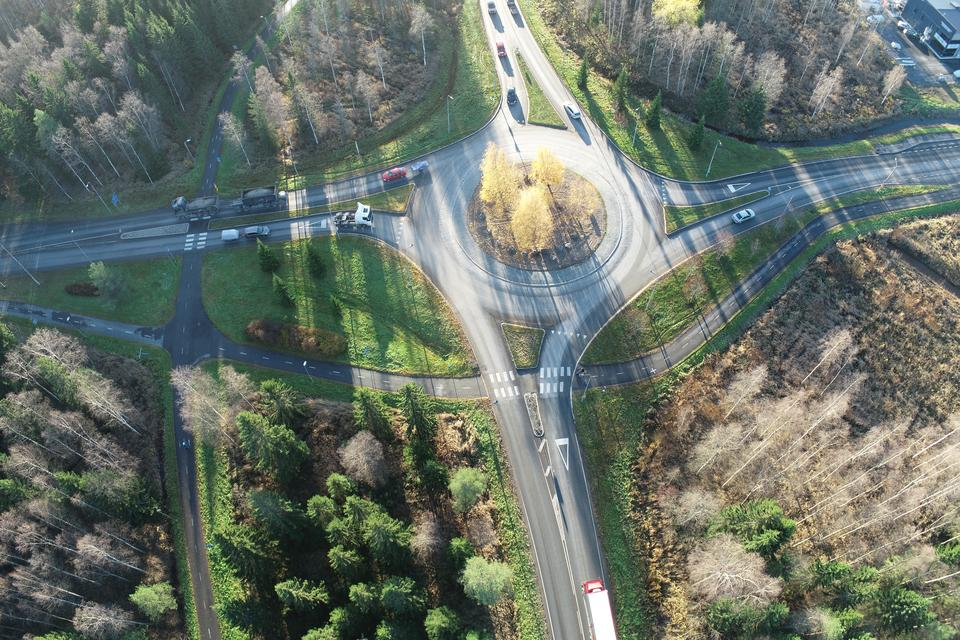intersection: (458, 347, 610, 421), (158, 176, 241, 282)
roundabout: (359, 87, 692, 335)
